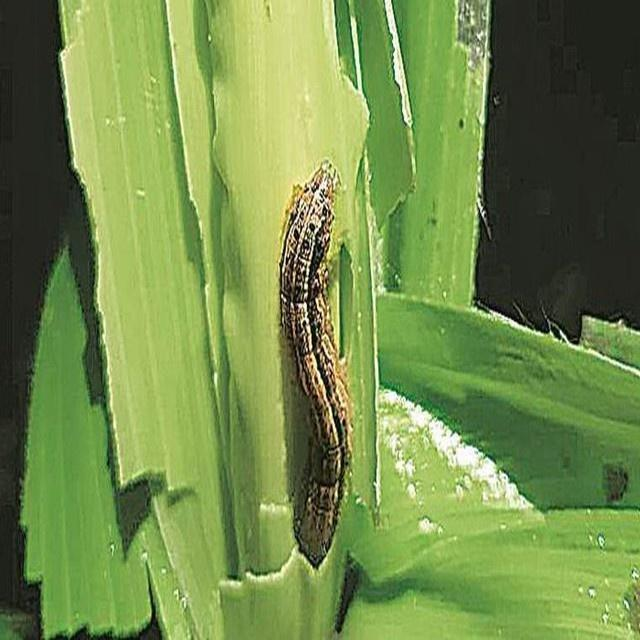gusano_cogollero: (274, 153, 352, 570)
